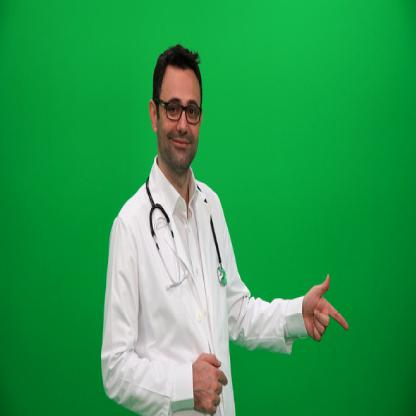Left: (306, 267, 354, 345)
